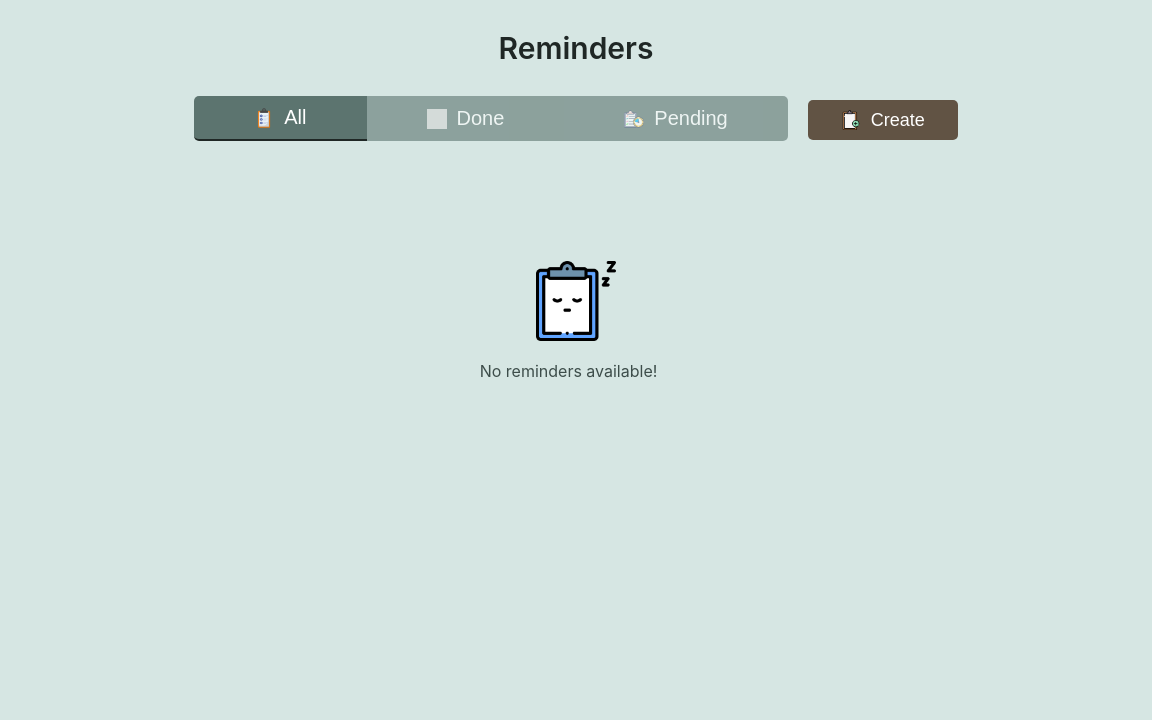
Scenario: Reminders application › creates a new reminder
Click the button with test id "create-button" at (883, 120), box x1=808 y1=100 x2=958 y2=140
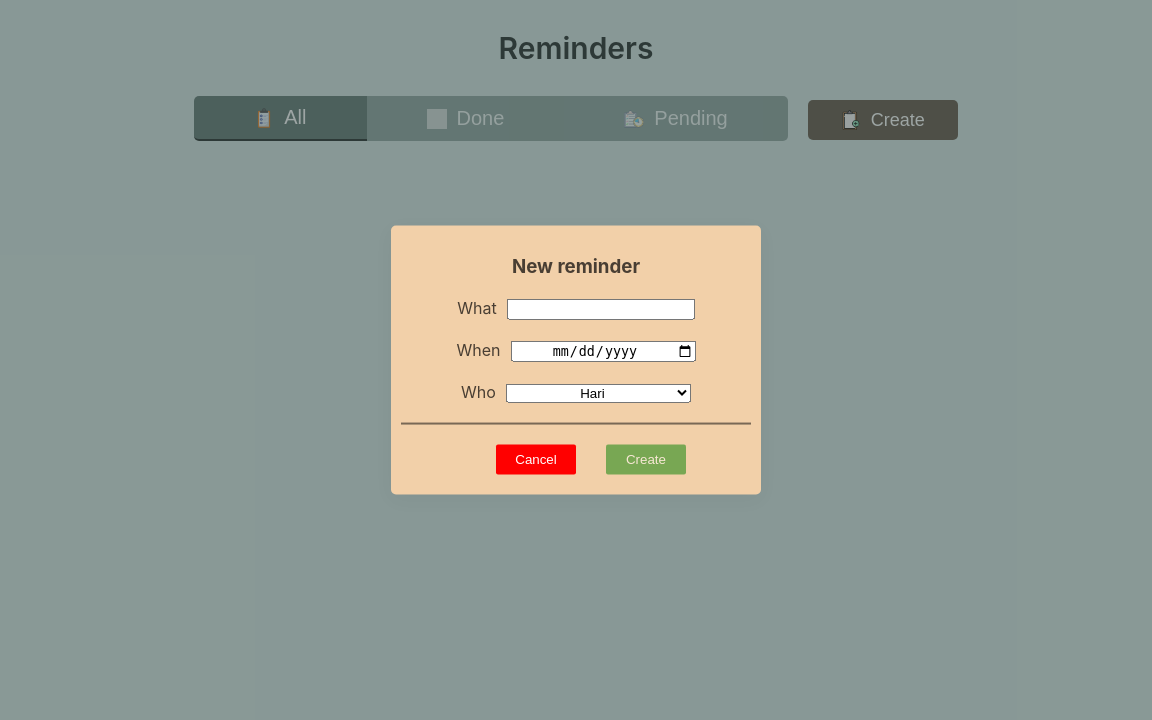
Check: the heading "New reminder" is shown, box x1=512 y1=254 x2=640 y2=277
Type "Buy milk" into the field with test id "what-input" at (601, 309), box x1=507 y1=298 x2=695 y2=319
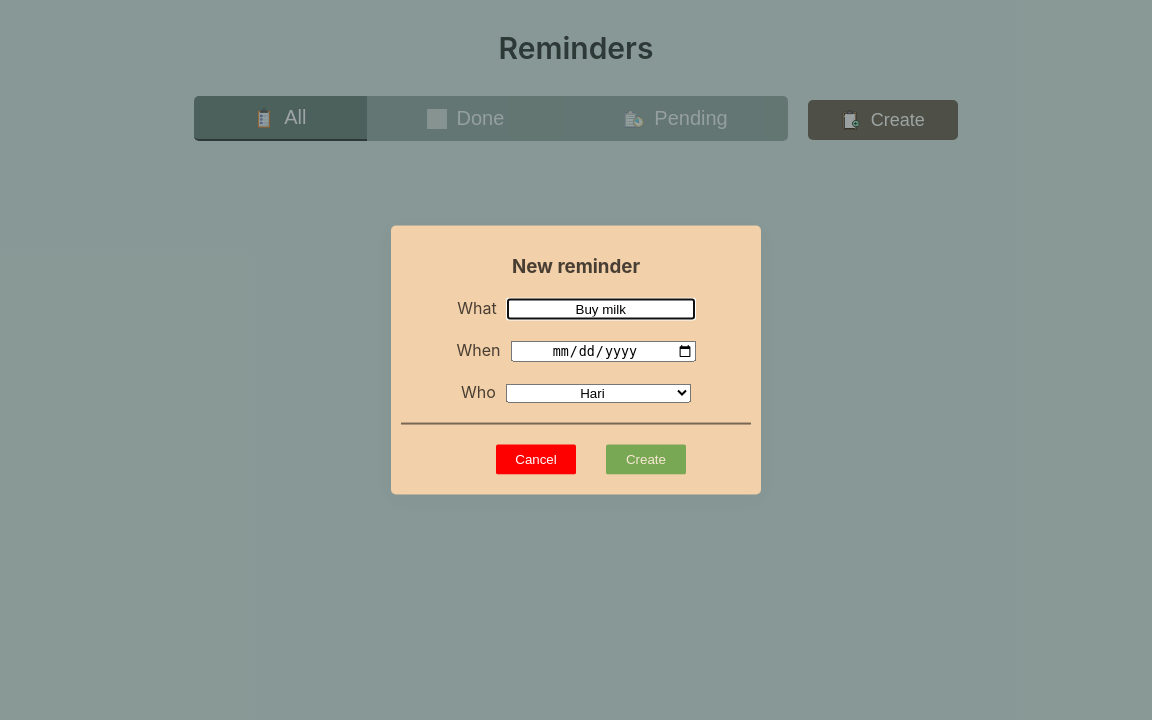
Type "2023-02-02" into the date field with test id "when-input" at (604, 351), box x1=511 y1=340 x2=696 y2=361
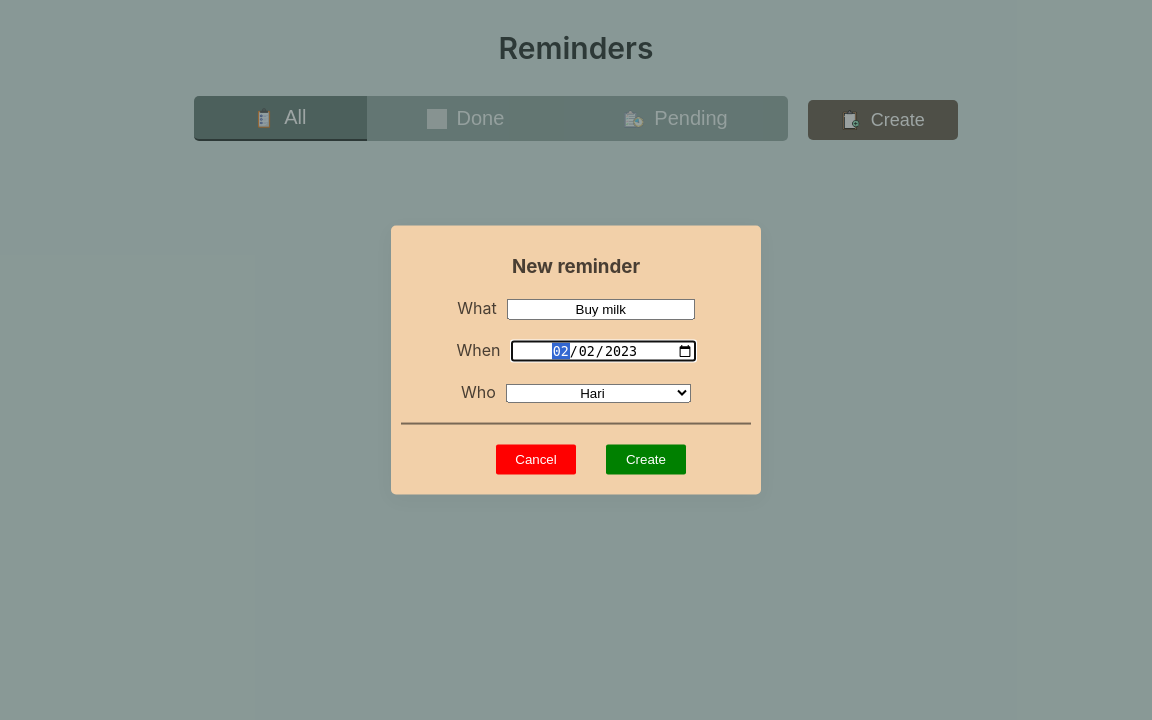
Select "Cartman" in the dropdown with test id "who-input" at (599, 393), box x1=506 y1=383 x2=691 y2=402
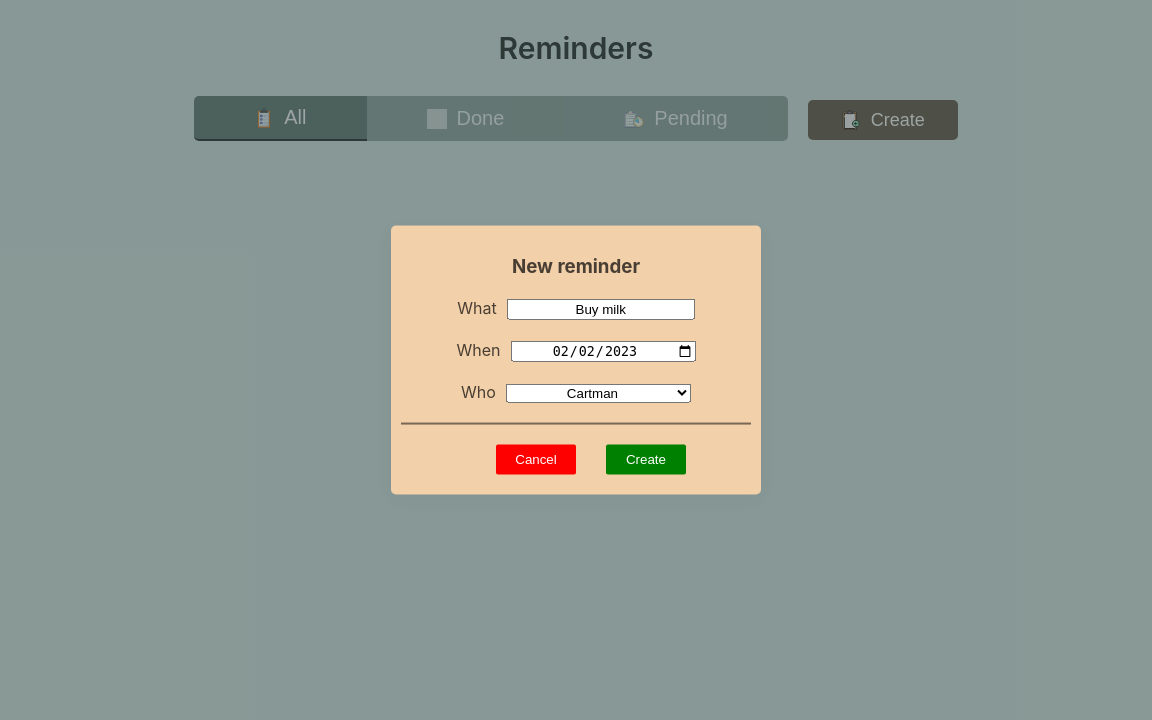
Click the button with test id "create-button-form" at (646, 459), box x1=606 y1=444 x2=686 y2=474
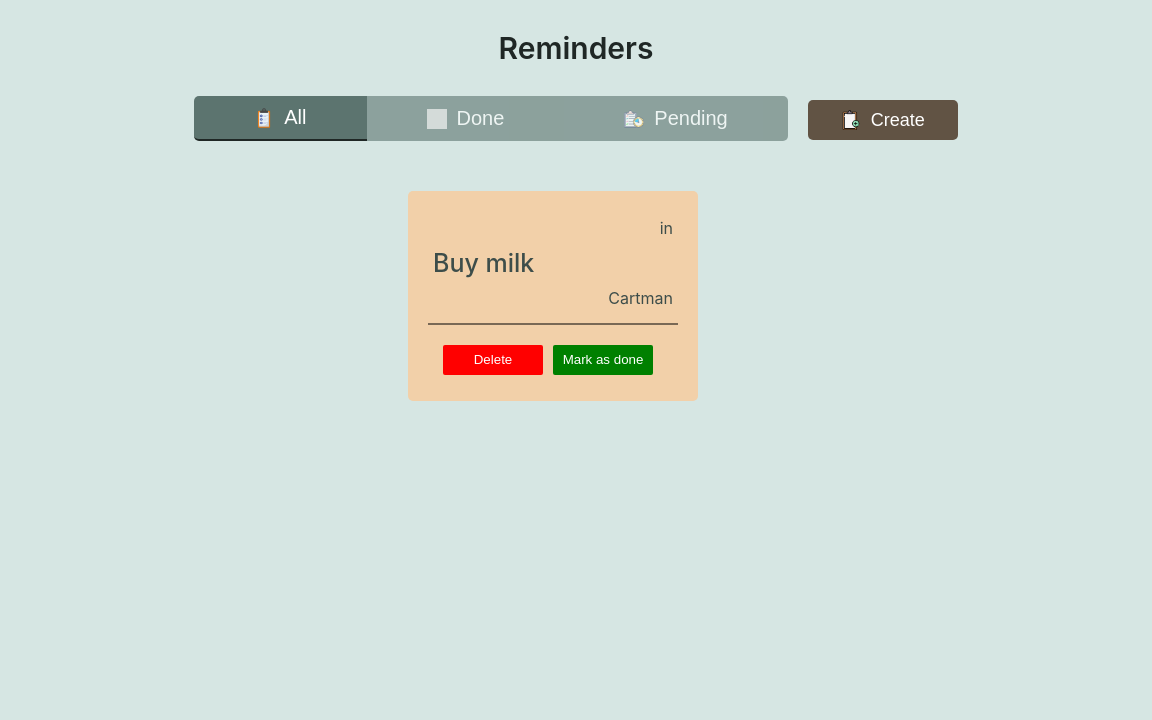
Check: the text with test id "reminder-title" reads "Buy milk", box x1=433 y1=248 x2=534 y2=278
